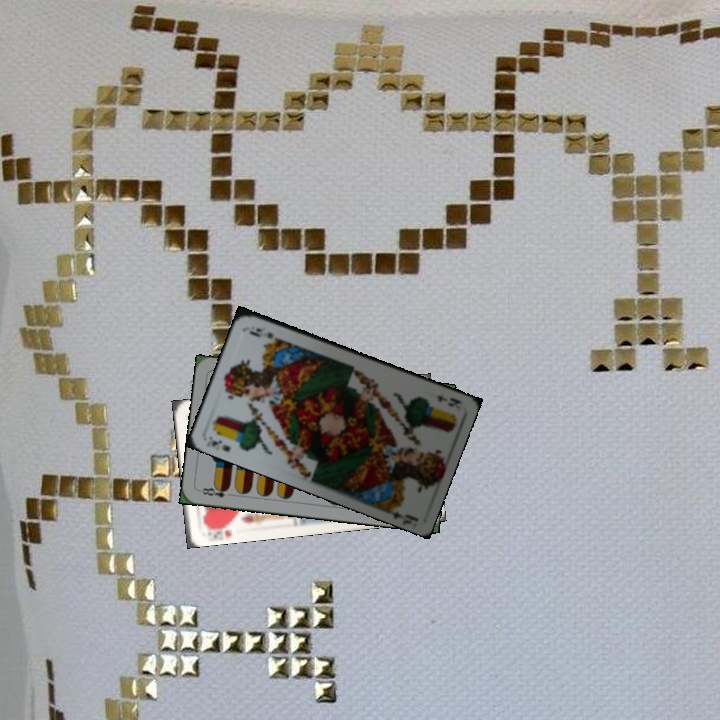E8: (196, 482, 236, 500)
EK: (202, 432, 233, 454), (432, 391, 464, 409)
HK: (202, 519, 234, 539)
